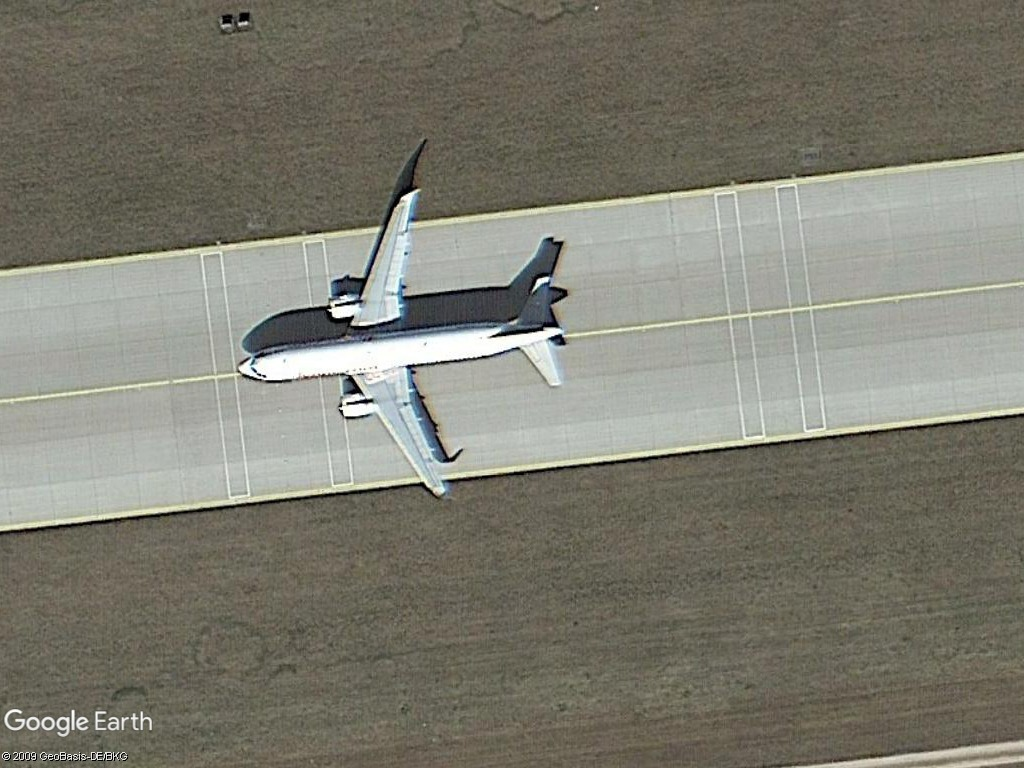airliner: (223, 184, 576, 504)
